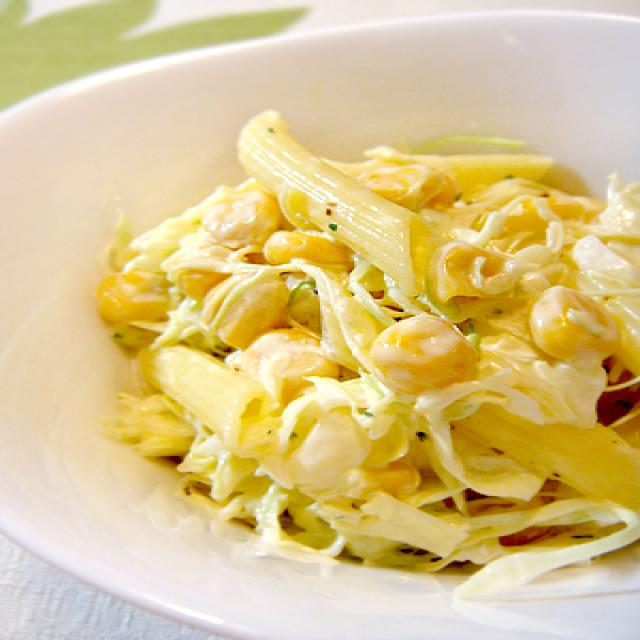蔬菜料理: (0, 9, 640, 640)
